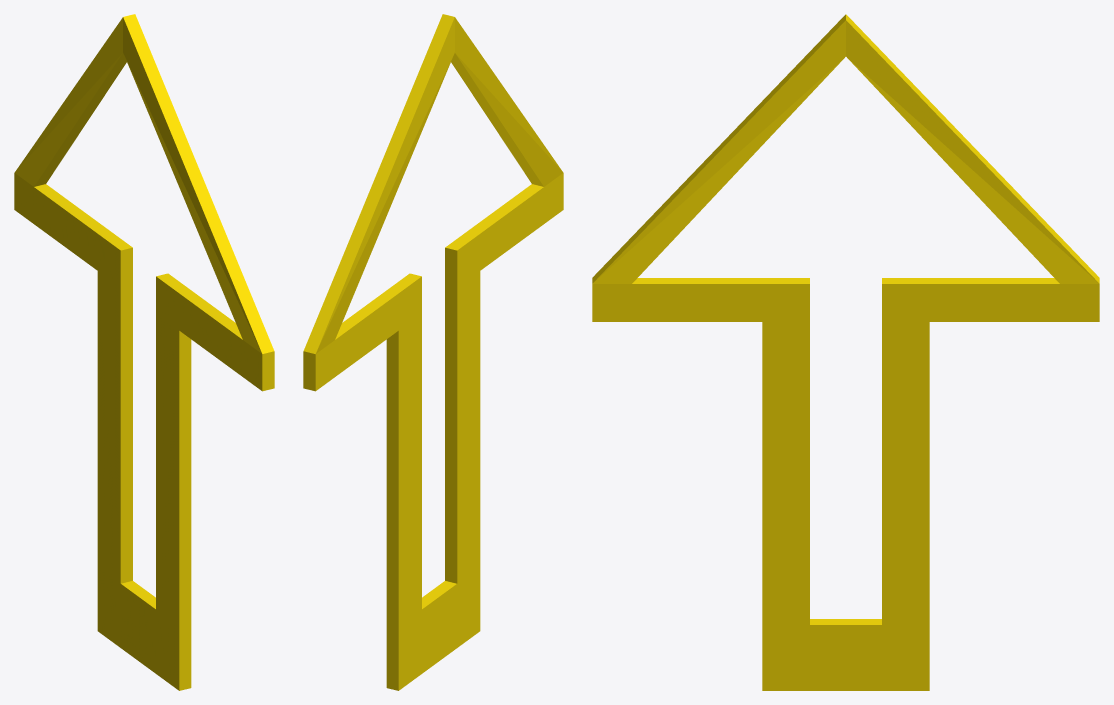
Rendered from Arrow.obj.
3 renders of one model, left to right at view 1: azimuth 30°, elevation 25°; view 2: azimuth 150°, elevation 25°; view 3: azimuth 270°, elevation 25°, orthographic. The views are drawn at different scales.
Visible parts, largest first — view 1: 立方体; view 2: 立方体; view 3: 立方体.
Boxes of the visible parts, <box> form: 立方体: <box>14,14,274,690</box>; 立方体: <box>303,14,563,690</box>; 立方体: <box>592,14,1099,690</box>.
Size of the model in its own units: 0.8927 by 20.11 by 13.95.
1 material, 1 textured.
